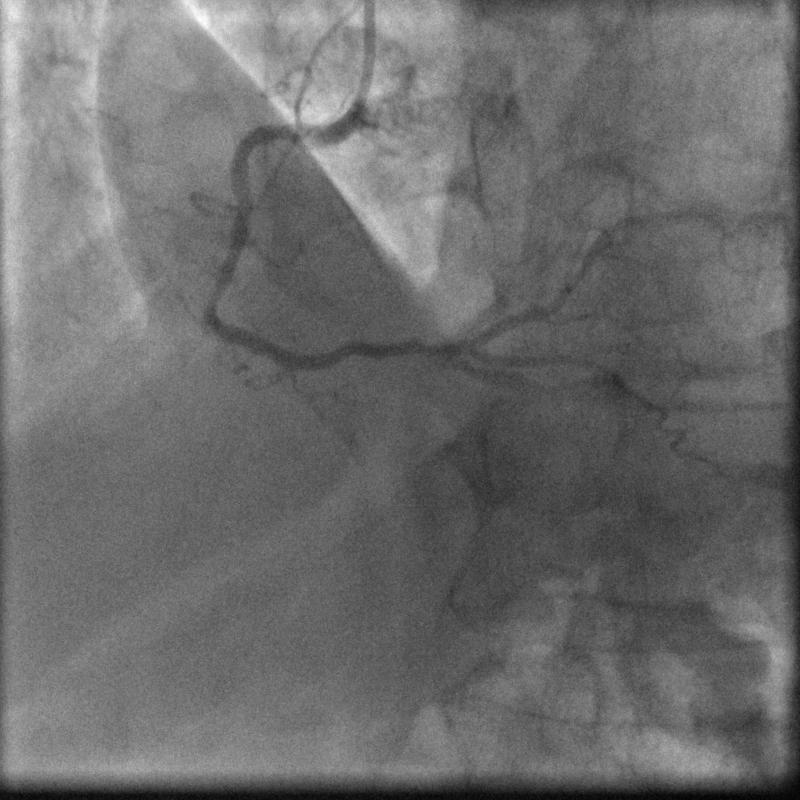Stenosis: (202, 282, 226, 308)
